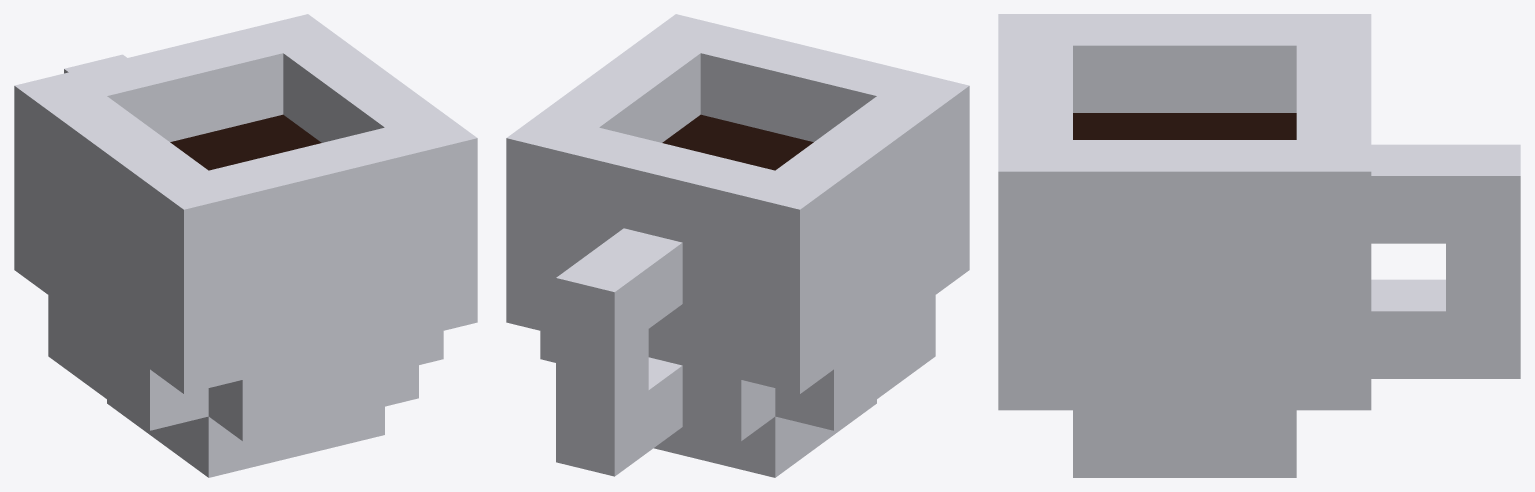
The model's file is coffee_cup.glb.
The picture shows the model from 3 angles, left to right: view 1: azimuth 30°, elevation 25°; view 2: azimuth 150°, elevation 25°; view 3: azimuth 270°, elevation 25°; orthographic projection. The views are drawn at different scales.
Visible parts, largest first — view 1: Untitled; view 2: Untitled; view 3: Untitled.
Part boxes in pixels (<box>): Untitled: <box>14,14,477,477</box>; Untitled: <box>506,14,969,477</box>; Untitled: <box>998,14,1520,477</box>.
Size of the model in its own units: 0.15 by 0.15 by 0.21.
Materials: 1 (1 with a texture image).
